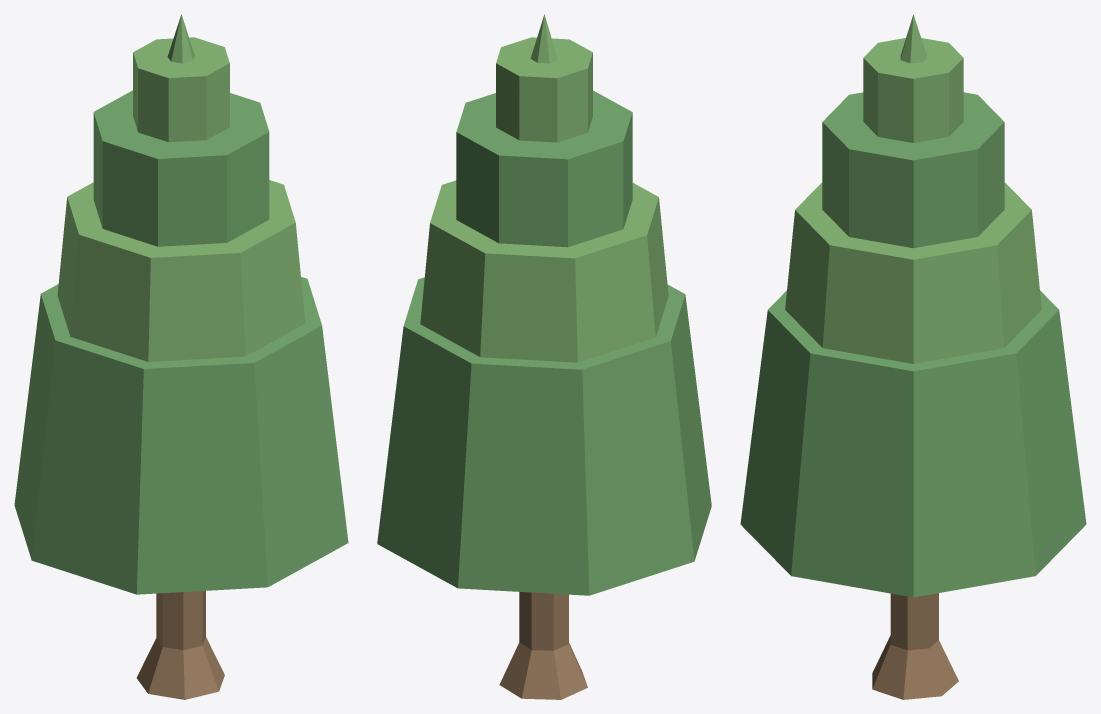
Rendered from tree_pine.fbx.
The picture shows the model from 3 angles, left to right: view 1: azimuth 30°, elevation 25°; view 2: azimuth 150°, elevation 25°; view 3: azimuth 270°, elevation 25°; orthographic projection.
Visible parts, largest first — view 1: Layer0, Layer1, Layer2, Layer3, Roots, Trunk, Top; view 2: Layer0, Layer1, Layer2, Layer3, Roots, Trunk, Top; view 3: Layer0, Layer1, Layer2, Layer3, Roots, Trunk, Top.
Boxes of the visible parts, box(x1,y1,x2,y2) form: Layer0: box(14, 277, 348, 594); Layer1: box(57, 180, 305, 361); Layer2: box(93, 90, 269, 246); Layer3: box(133, 37, 229, 142); Roots: box(136, 636, 224, 699); Trunk: box(156, 591, 205, 650); Top: box(167, 14, 194, 63); Layer0: box(377, 277, 711, 595); Layer1: box(420, 180, 668, 362); Layer2: box(456, 90, 632, 247); Layer3: box(496, 37, 592, 142); Roots: box(499, 642, 587, 699); Trunk: box(519, 592, 568, 650); Top: box(530, 14, 557, 63); Layer0: box(740, 290, 1086, 597); Layer1: box(785, 182, 1041, 363); Layer2: box(822, 92, 1004, 248); Layer3: box(863, 38, 963, 142); Roots: box(872, 635, 958, 699); Trunk: box(890, 593, 938, 650); Top: box(900, 14, 927, 63).
Bounding box in the file's own units: 3.8 × 8.08 × 3.8.
